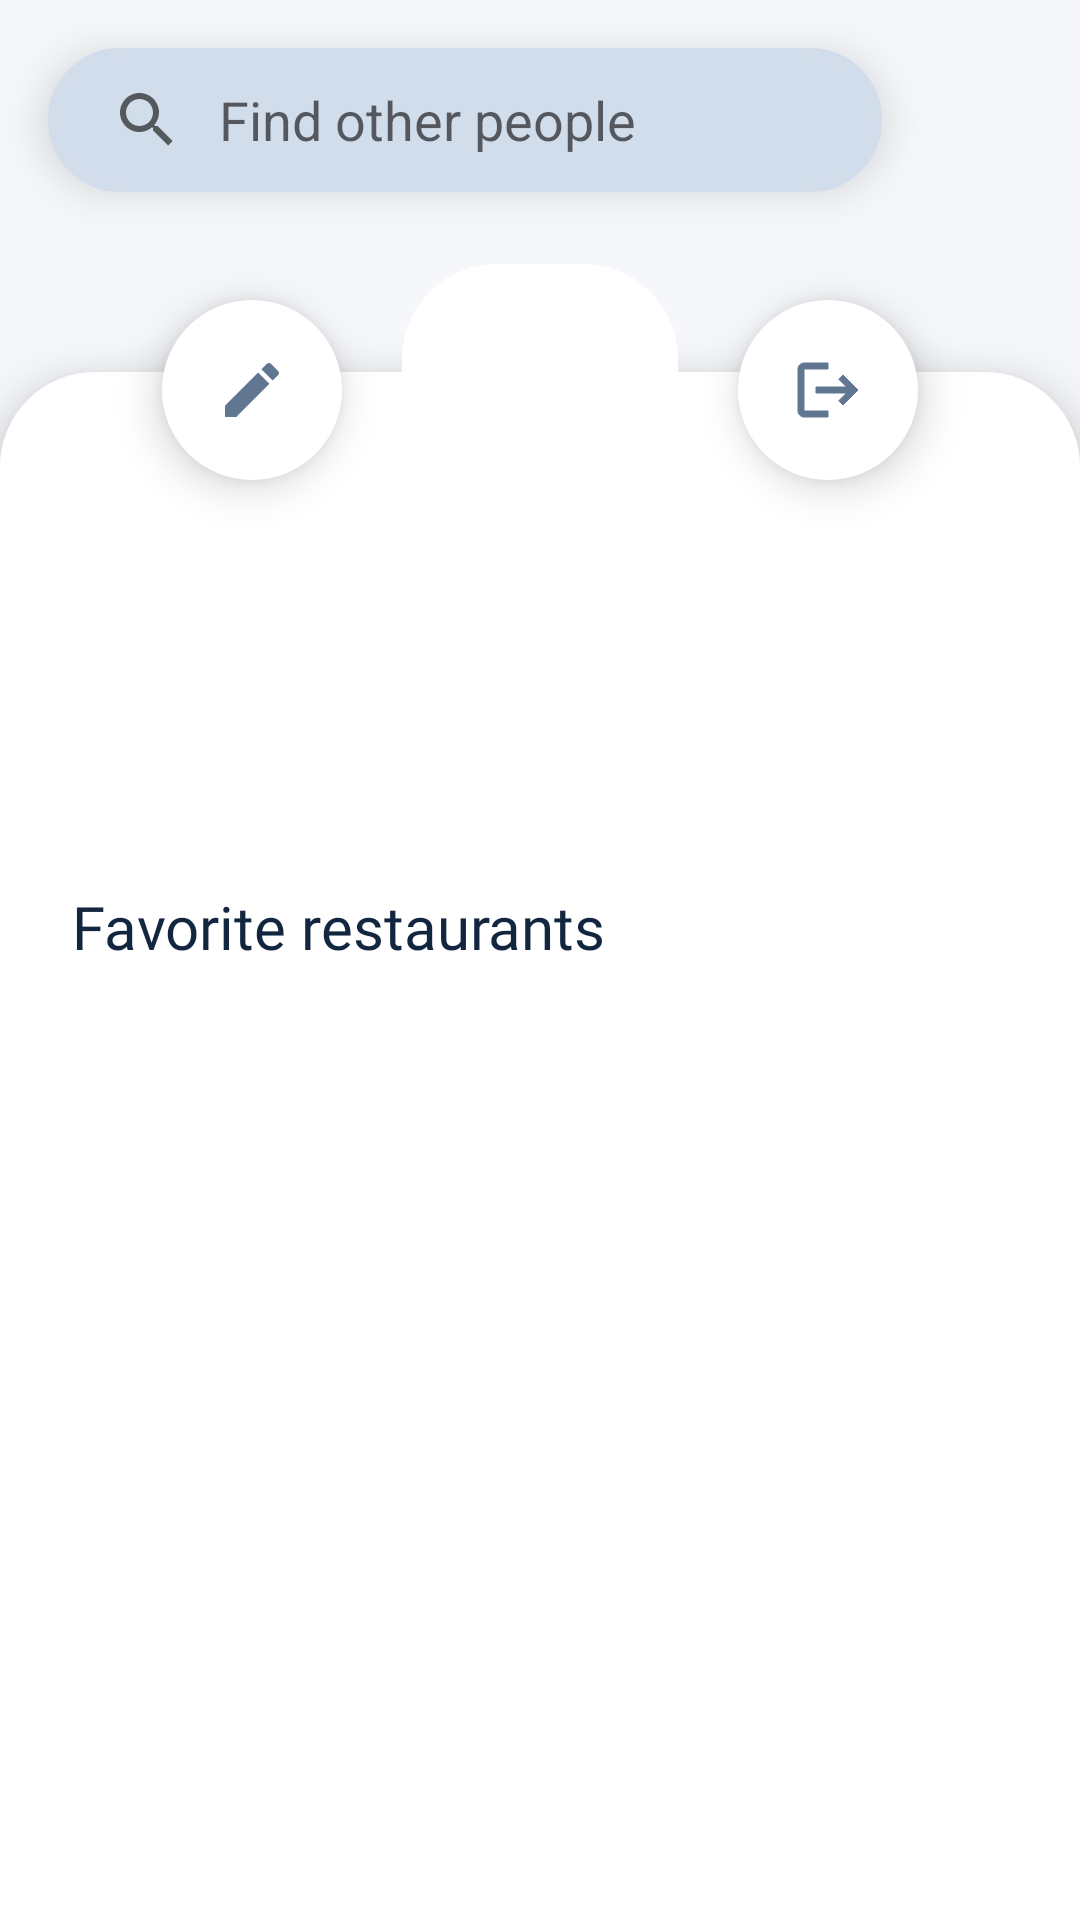

Named icons in this screenshot (1080×1920) and their bounding boxes, (x1, y1, x2, y2):
edit: (162, 300, 342, 480)
